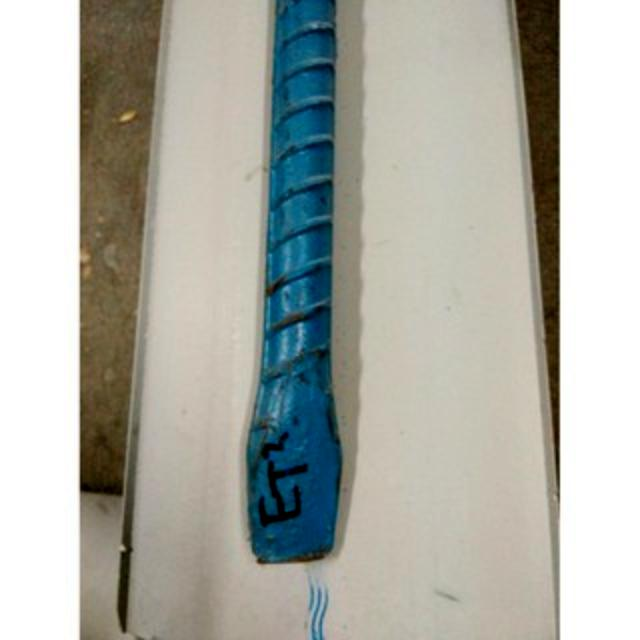crow bar: (240, 1, 356, 573)
